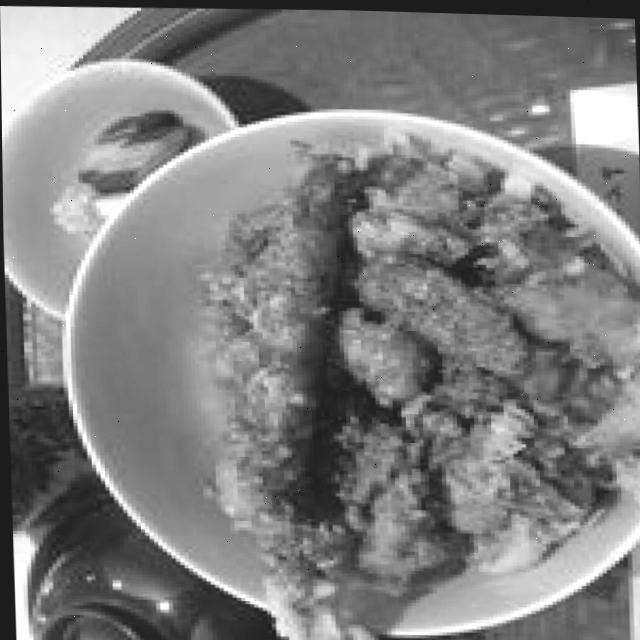熟制海鲜: (44, 85, 640, 640)
